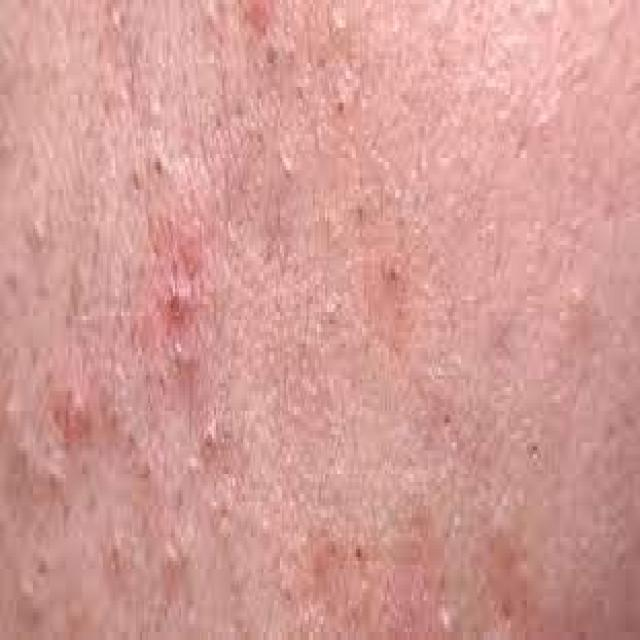Acne: (157, 272, 199, 332), (56, 382, 92, 448), (380, 244, 410, 297), (196, 405, 223, 463), (241, 0, 279, 40), (159, 535, 184, 581)
